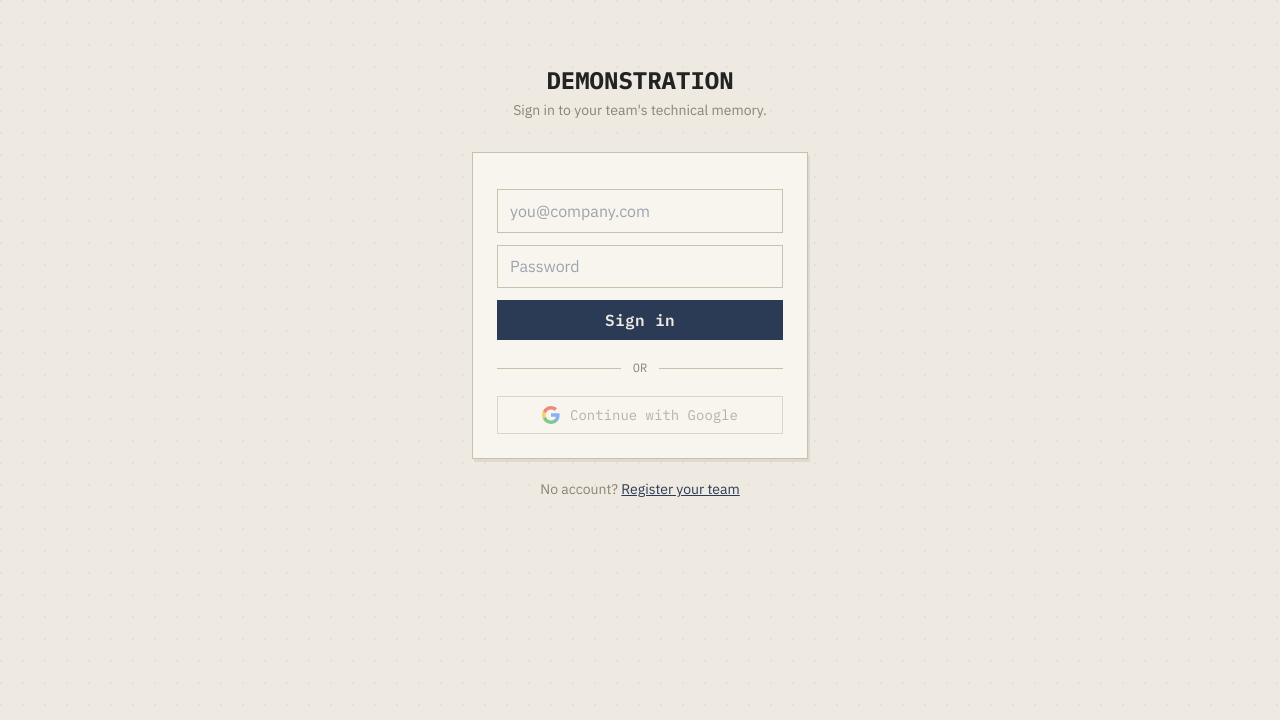
Test case: login flow › shows the API error and stays on login after a failed request
The width and height of the screenshot is (1280, 720).
In the field named "Email address": (640, 211) left=497, top=189, right=783, bottom=233, type "dev@example.test"
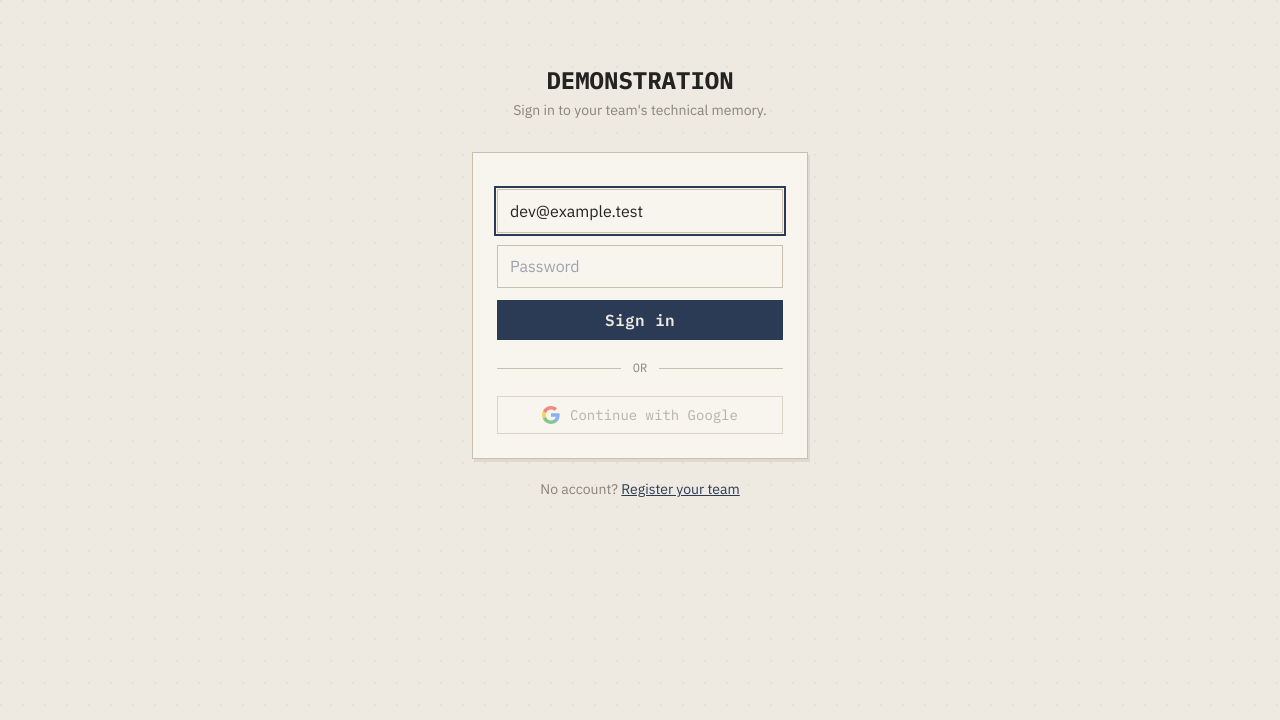
In the password field labelled "Password": (640, 266) left=497, top=245, right=783, bottom=288, type "wrong-password"
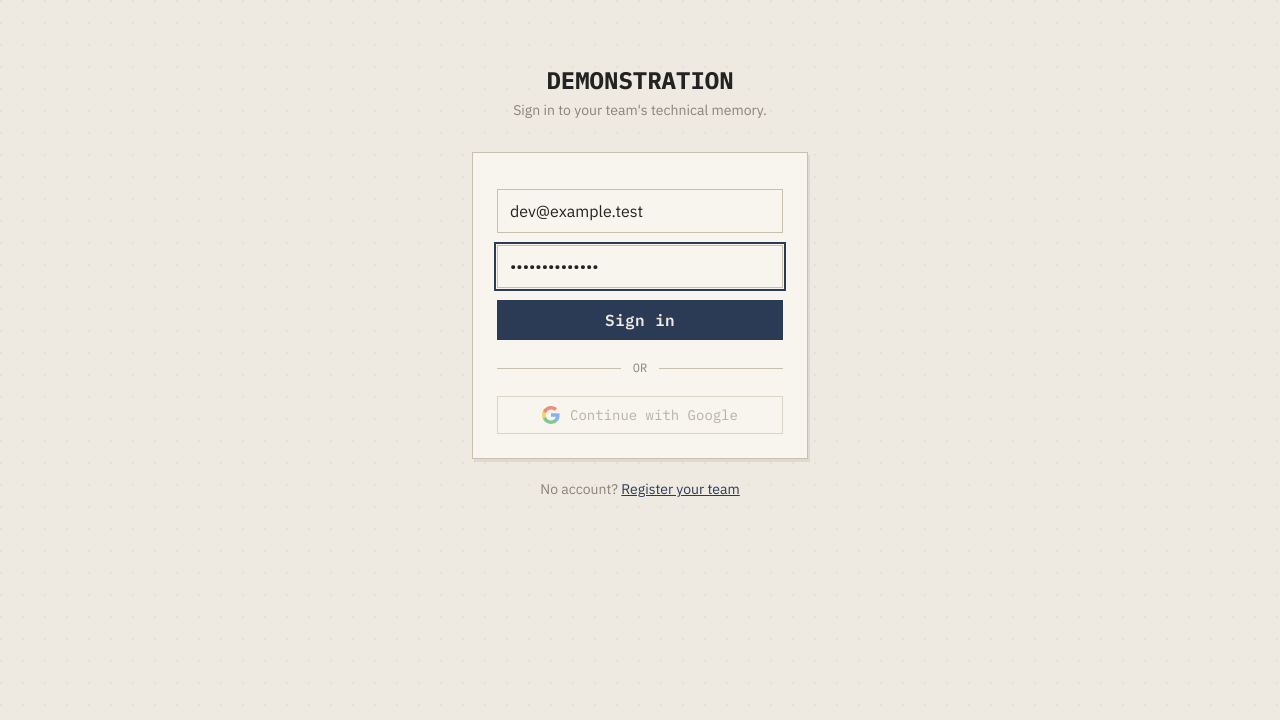
Click the button: click(640, 320) left=497, top=300, right=783, bottom=340
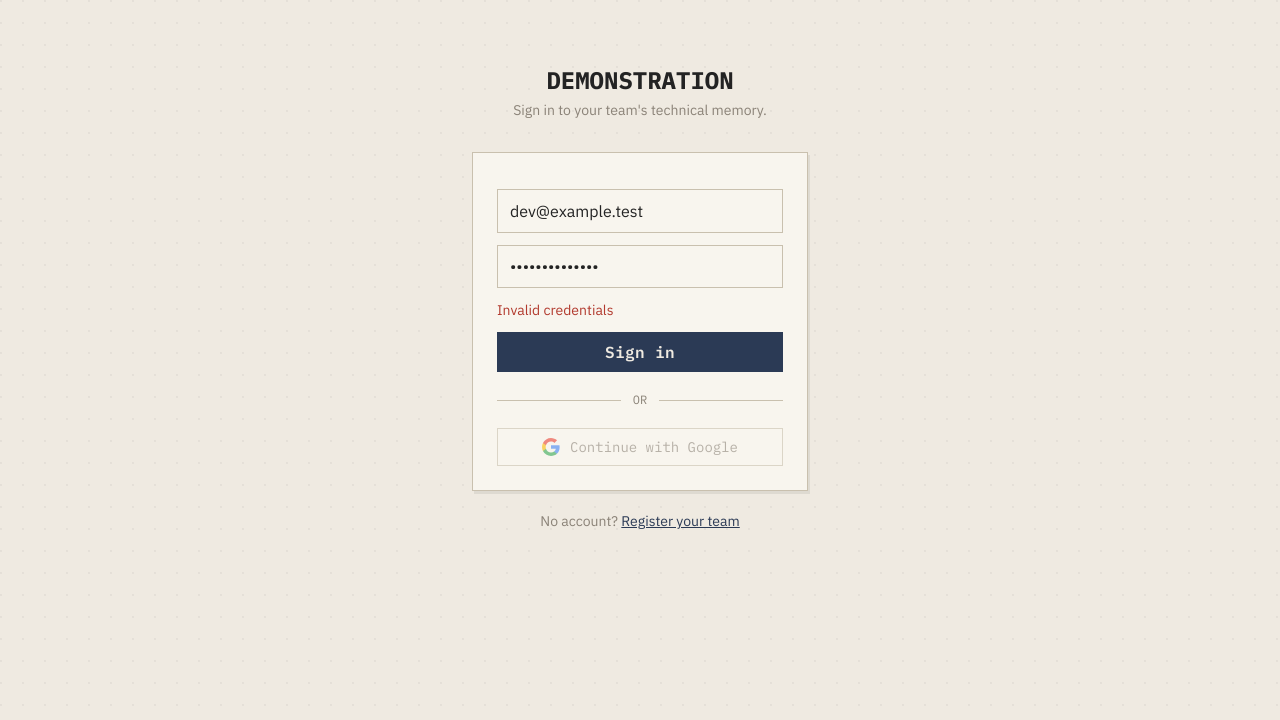
Now the message reads "Invalid credentials", box left=497, top=301, right=614, bottom=319
